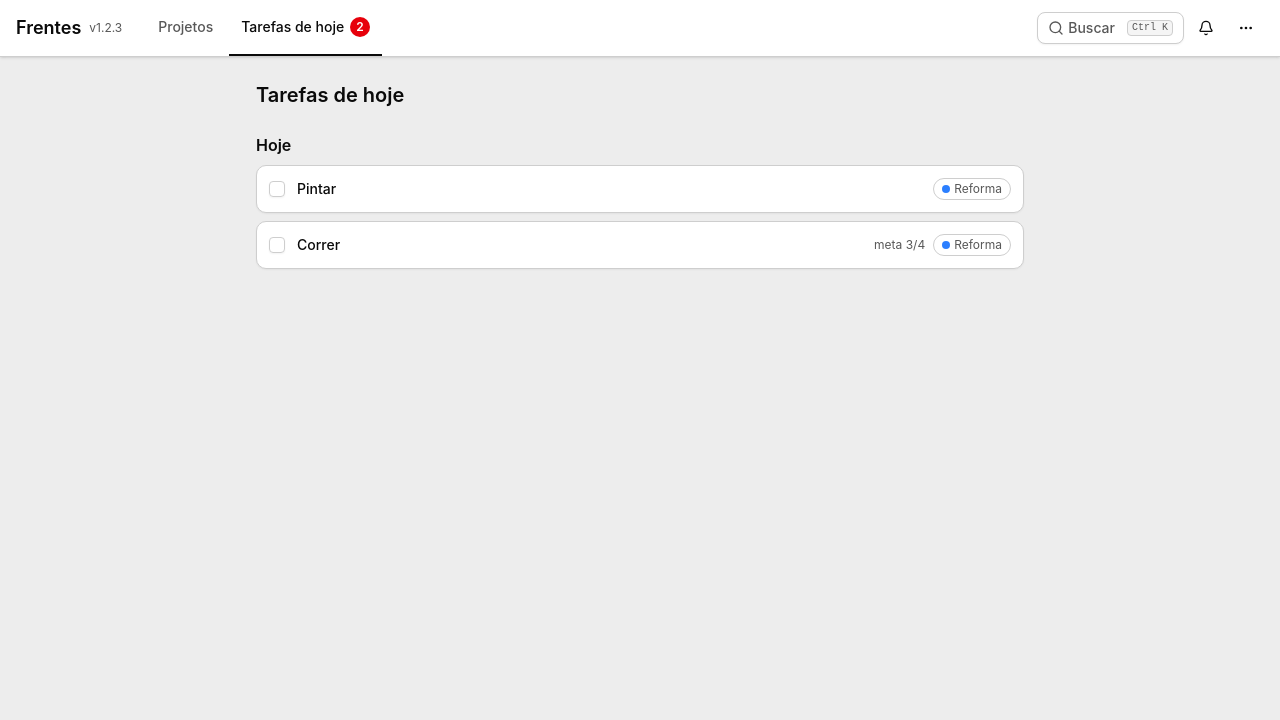
it: Lista "Hoje" (01 §4.3, RN-60) › checkbox conclui com Desfazer (RN-26); na meta é o +1
The image size is (1280, 720).
Click the checkbox named "Concluir Pintar" at (277, 189), box [269,181,285,197]
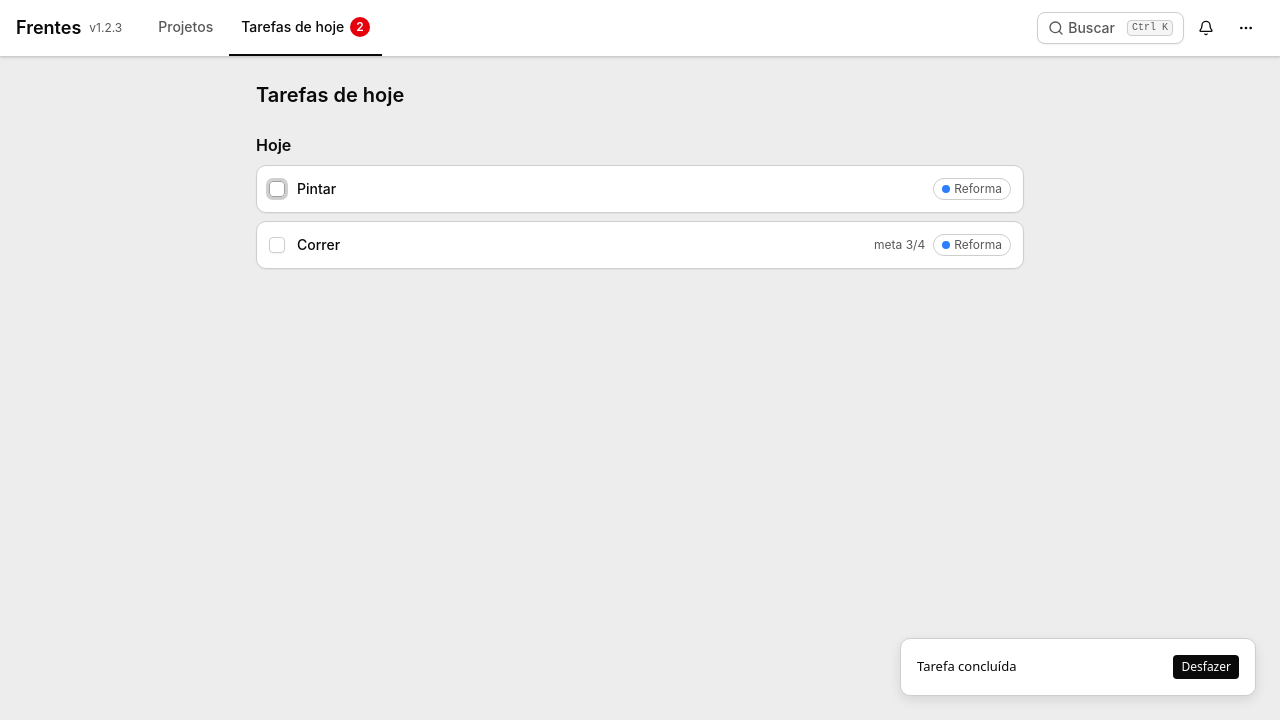
Expected: the text "Tarefa concluída" is shown, [917,657,1016,677]
Click the button "Desfazer" at (1206, 667), box [1174,655,1239,679]
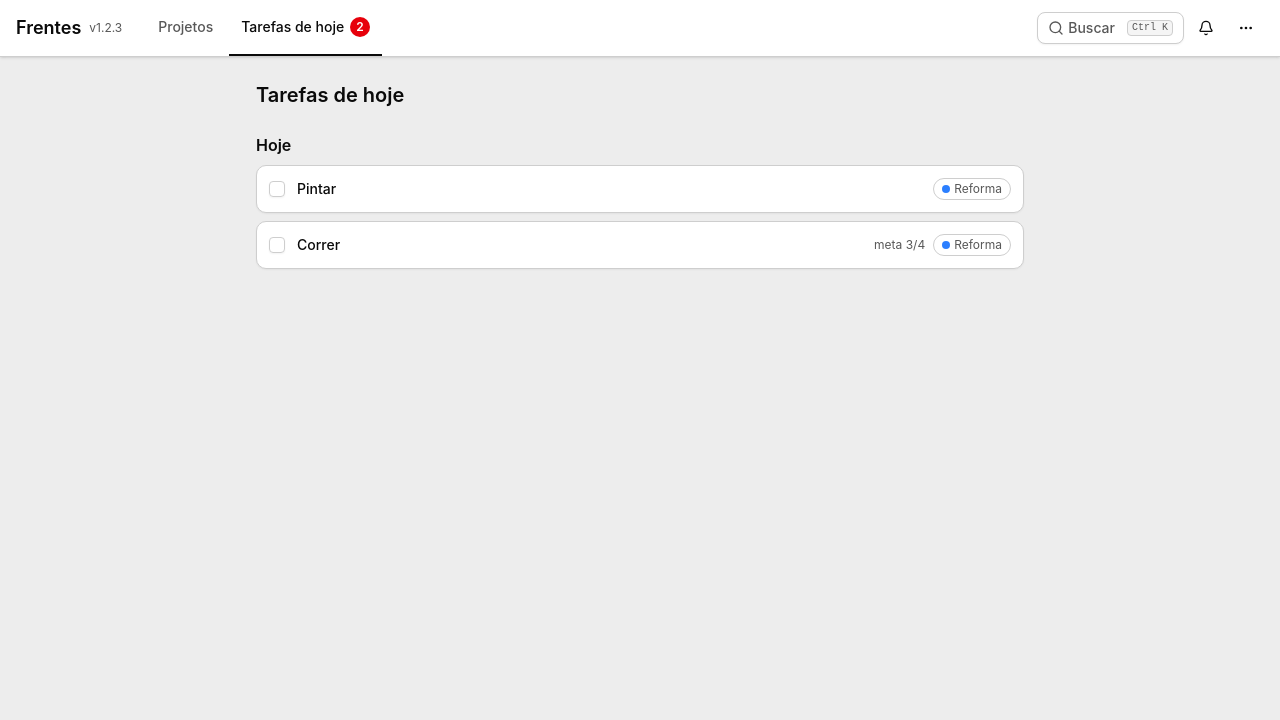
Click the checkbox named "+1 em Correr" at (277, 245), box [269,237,285,253]
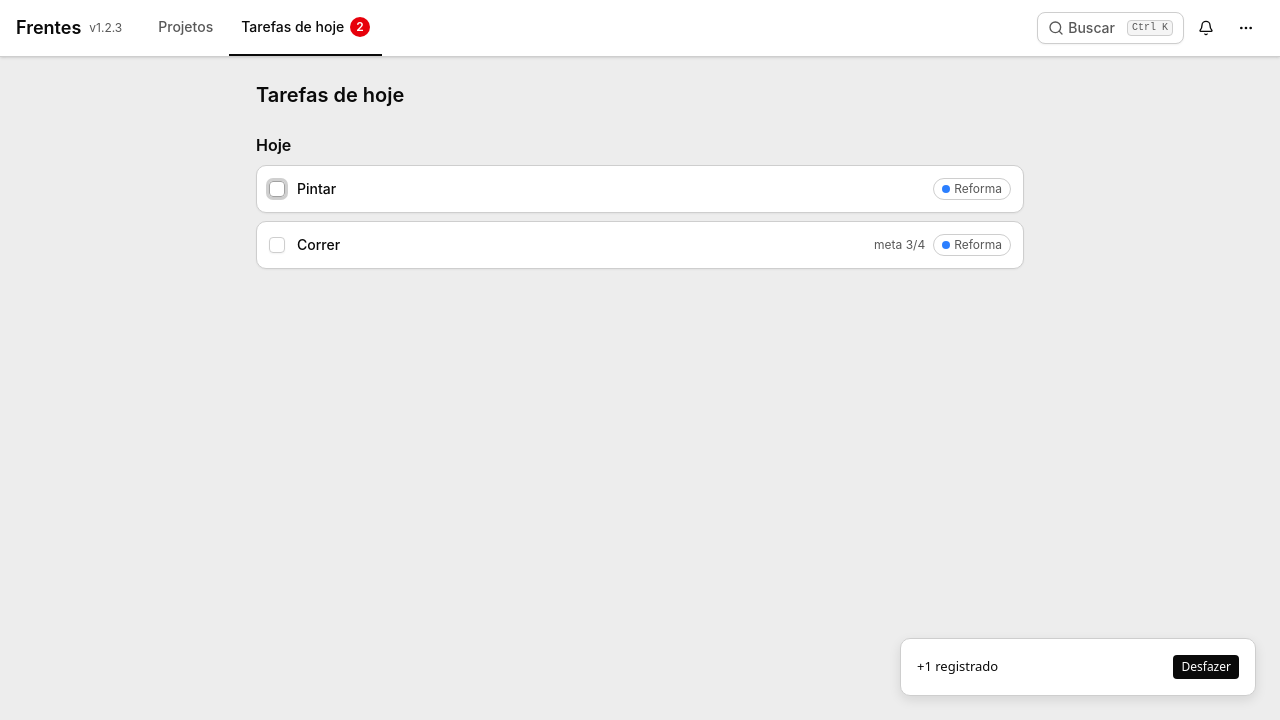
Expected: the text "+1 registrado" is shown, [917,657,998,677]
